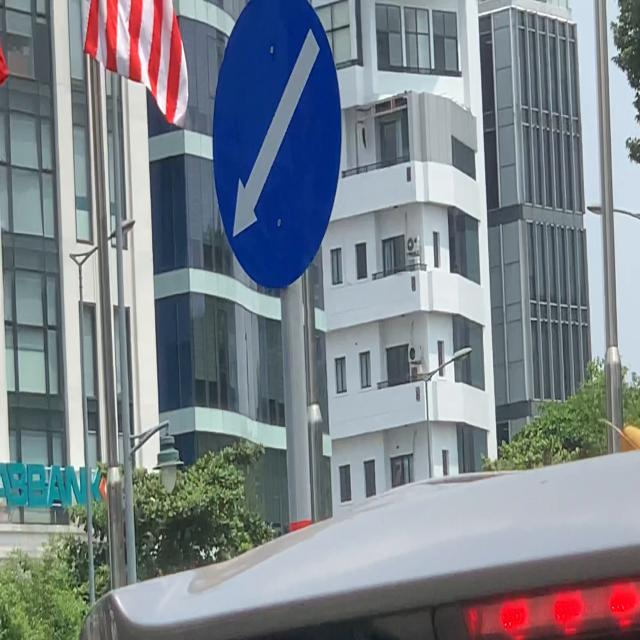Hieu lenh: (205, 0, 348, 292)
